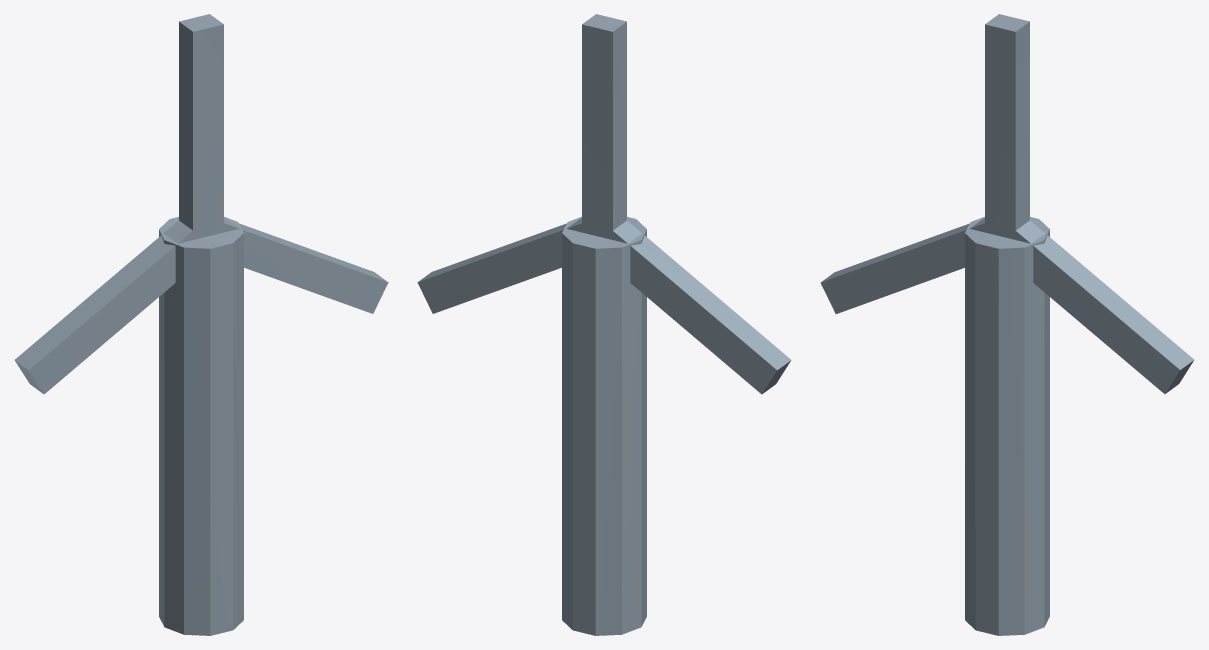
The model's file is wind_turbine-01.glb.
The picture shows the model from 3 angles, left to right: view 1: azimuth 30°, elevation 25°; view 2: azimuth 150°, elevation 25°; view 3: azimuth 330°, elevation 25°; orthographic projection.
Visible parts, largest first — view 1: world; view 2: world; view 3: world.
Part boxes in pixels (x1,y1,x2,y2): world: [14, 14, 388, 635]; world: [417, 14, 791, 635]; world: [820, 14, 1194, 635].
Bounding box in the file's own units: 1.17 × 1.85 × 0.2283.
